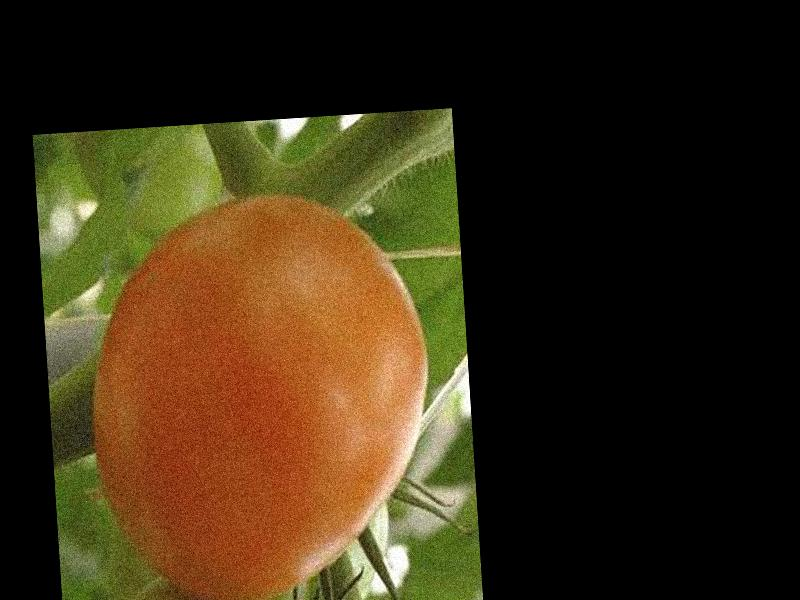Tomato: (80, 185, 443, 600)
